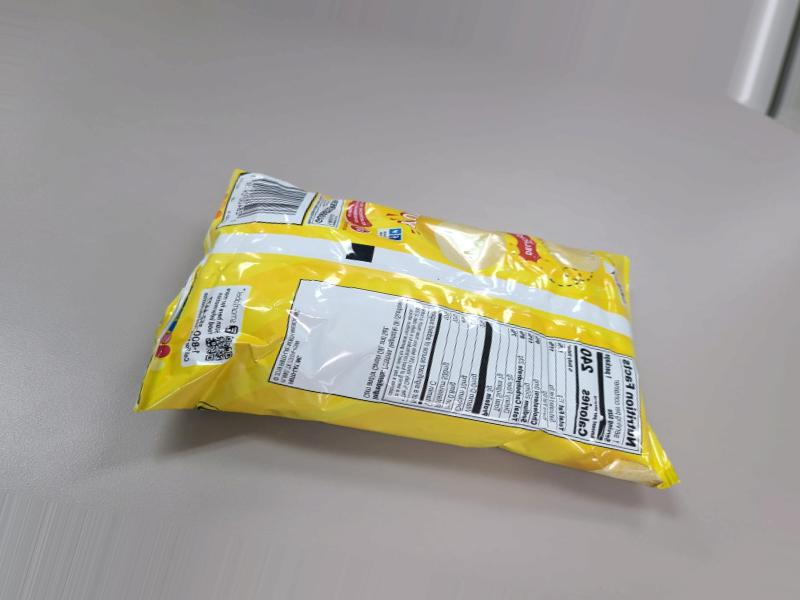lays: (136, 219, 706, 508)
